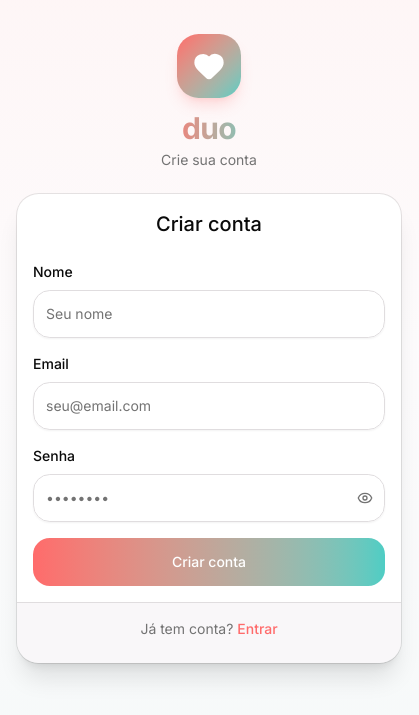
Test: RegisterPage › should show error when password is too short
Type "Test" into the field labelled "Nome" at (209, 314), box [33, 290, 385, 338]
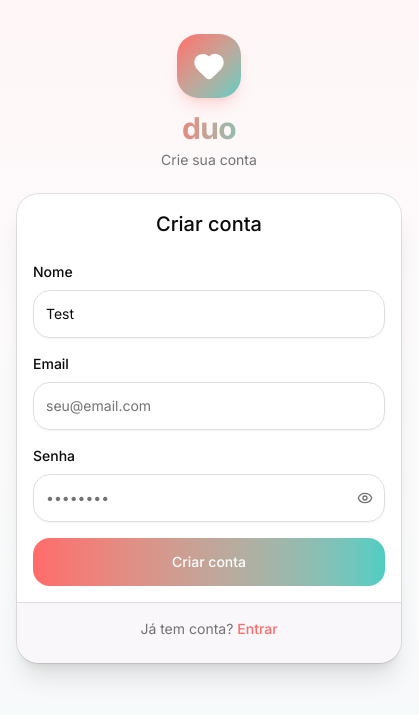
Type "test@test.com" into the field labelled "Email" at (209, 406), box [33, 382, 385, 430]
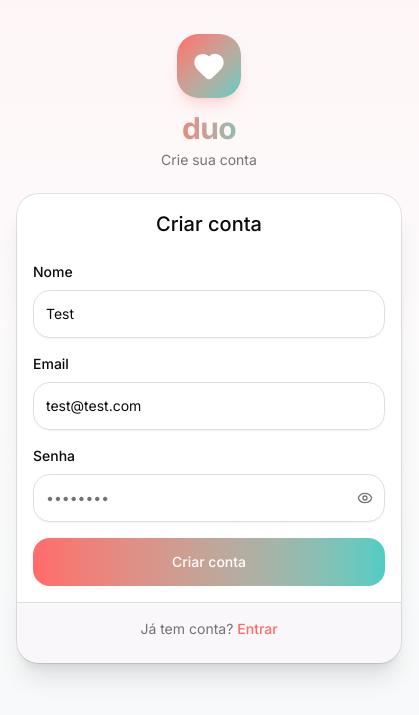
Type "12345" into the password field labelled "Senha" at (209, 498), box [33, 474, 385, 522]
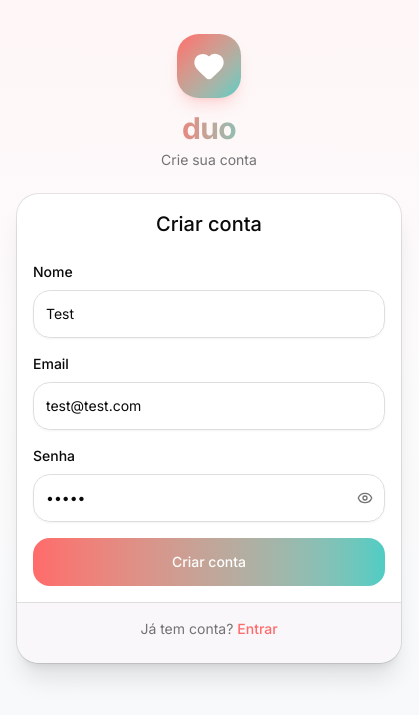
Click the button "Criar conta" at (209, 562), box [33, 538, 385, 586]
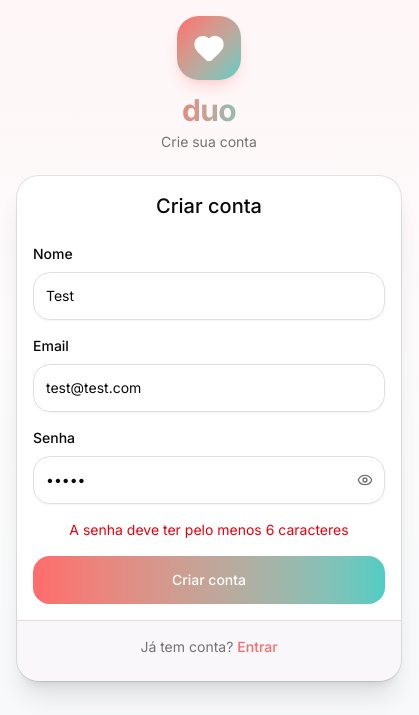
Check: the text "A senha deve ter pelo menos 6 caracteres" is shown, box [69, 520, 349, 538]
